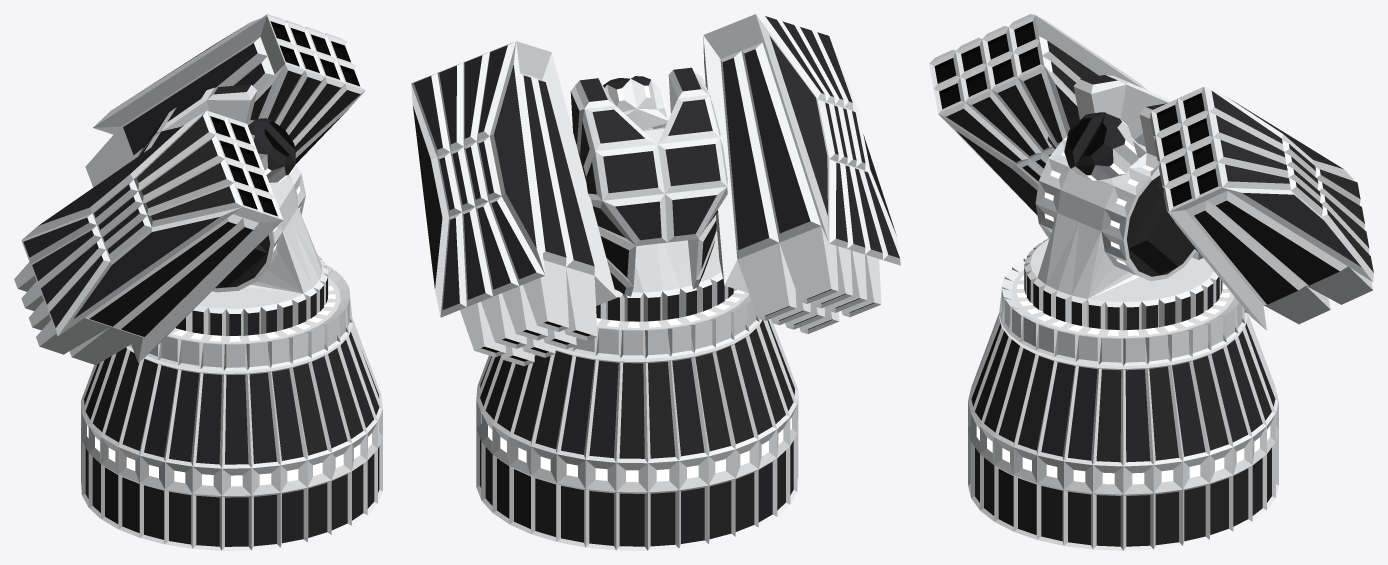
File: antiair.glb
3 views of the same model, side by side, from view 1: azimuth 30°, elevation 25°; view 2: azimuth 150°, elevation 25°; view 3: azimuth 270°, elevation 25° (orthographic). The views are drawn at different scales.
Parts seen in each view (by area): view 1: ADS-400_Gun, AirDefenseSystem-400, ADS-400_Fundament, ADS-400_Neck, ADS-400_Head; view 2: ADS-400_Gun, AirDefenseSystem-400, ADS-400_Head, ADS-400_Fundament, ADS-400_Neck; view 3: ADS-400_Gun, AirDefenseSystem-400, ADS-400_Fundament, ADS-400_Head, ADS-400_Neck.
Part boxes in pixels (bbox=[...]): ADS-400_Gun: bbox=[14, 14, 365, 364]; AirDefenseSystem-400: bbox=[81, 264, 382, 495]; ADS-400_Fundament: bbox=[81, 431, 382, 550]; ADS-400_Neck: bbox=[175, 176, 328, 336]; ADS-400_Head: bbox=[138, 84, 305, 292]; ADS-400_Gun: bbox=[411, 14, 900, 366]; AirDefenseSystem-400: bbox=[476, 289, 798, 492]; ADS-400_Head: bbox=[570, 67, 727, 297]; ADS-400_Fundament: bbox=[476, 424, 798, 550]; ADS-400_Neck: bbox=[596, 127, 736, 321]; ADS-400_Gun: bbox=[929, 14, 1373, 330]; AirDefenseSystem-400: bbox=[968, 256, 1278, 494]; ADS-400_Fundament: bbox=[968, 429, 1278, 550]; ADS-400_Head: bbox=[1035, 75, 1202, 281]; ADS-400_Neck: bbox=[1024, 144, 1222, 330].
Size of the model in its own units: 1431 by 1549 by 1431.
1 material, 1 textured.
